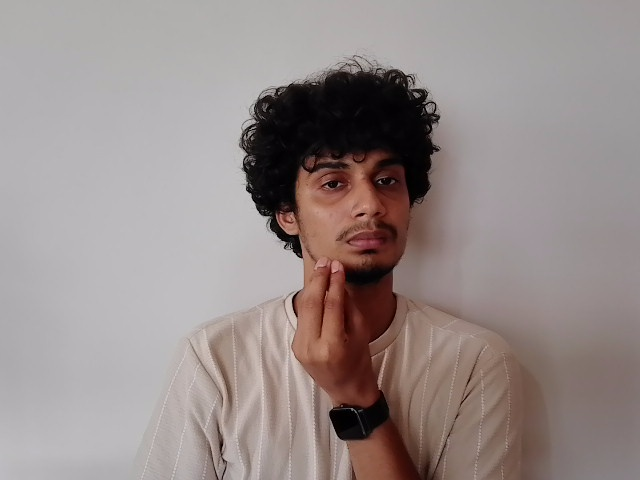eat: (273, 148, 418, 383)
